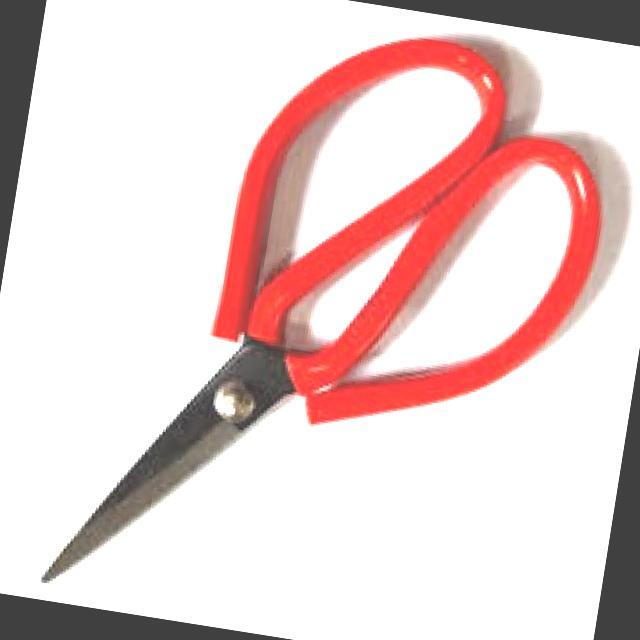Scissors: (7, 0, 640, 640)
